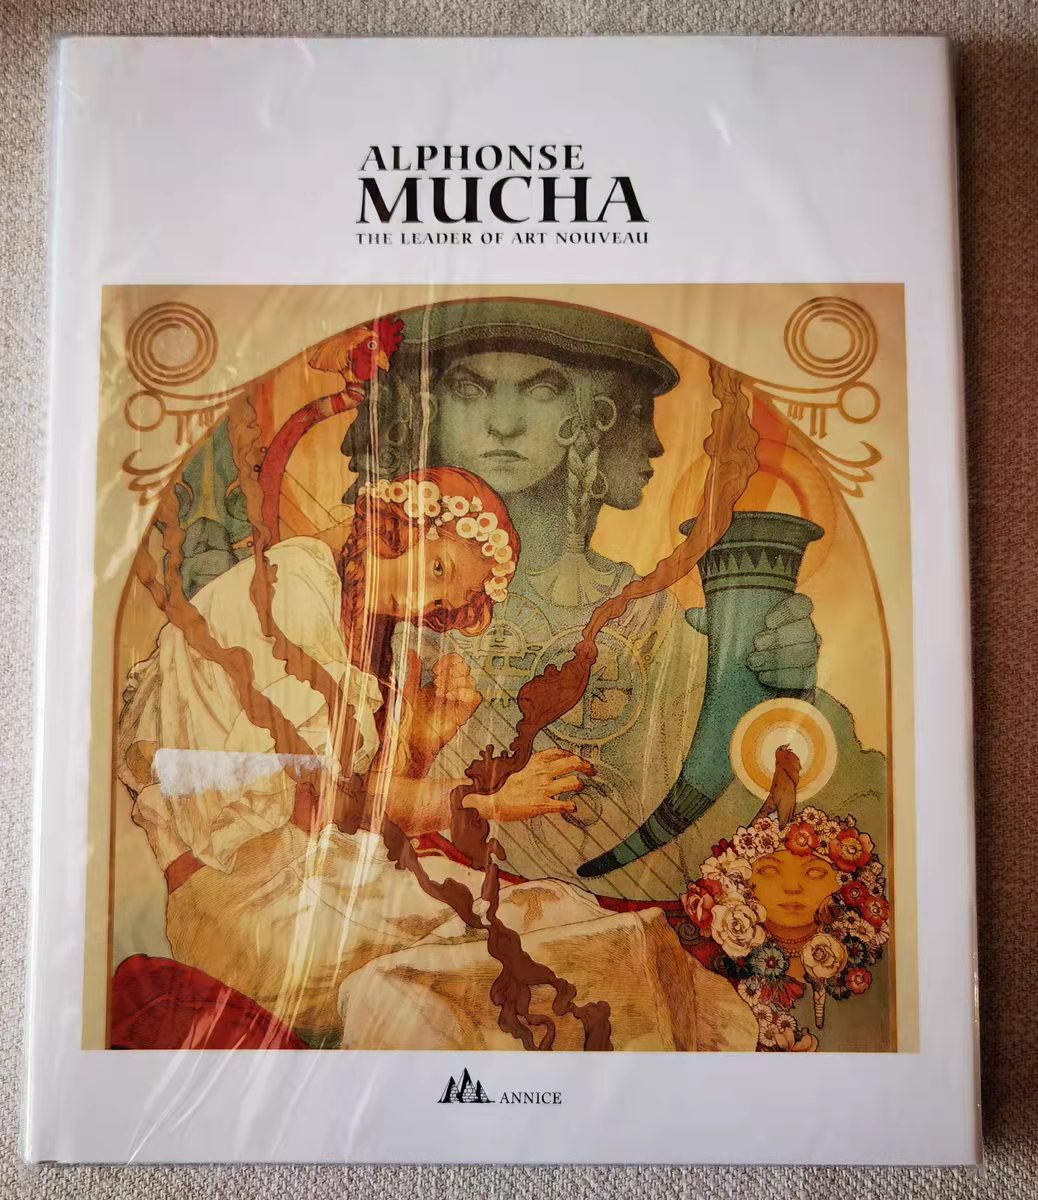book: (18, 30, 989, 1168)
